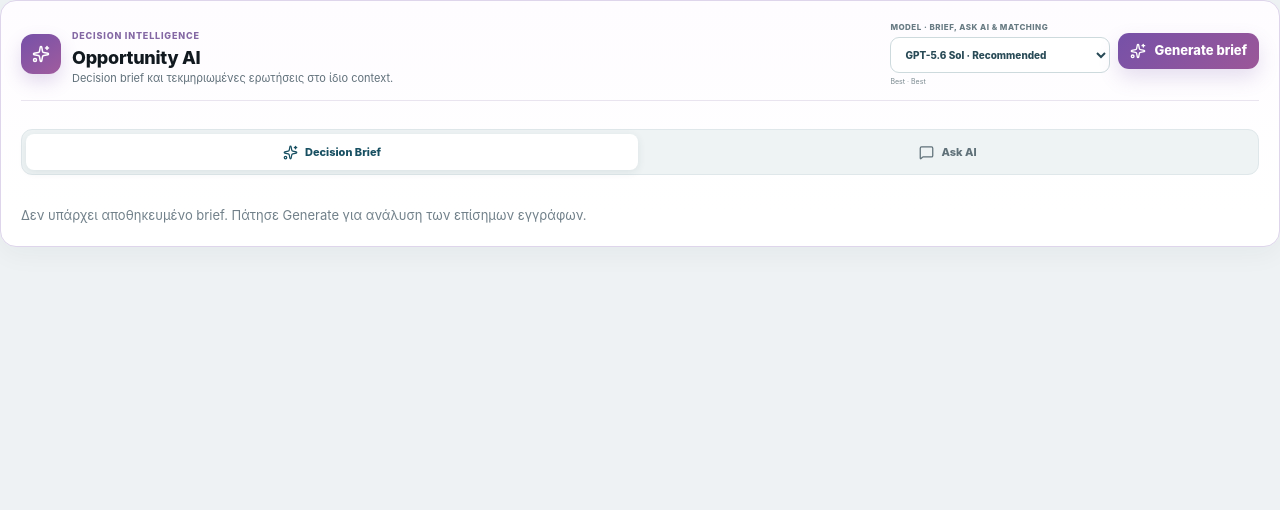
Test: Opportunity AI workspace › switches from Decision Brief to independent Ask AI
Select "GPT-4.1 mini" in the dropdown named "AI model": (1000, 55) [890,37,1110,73]
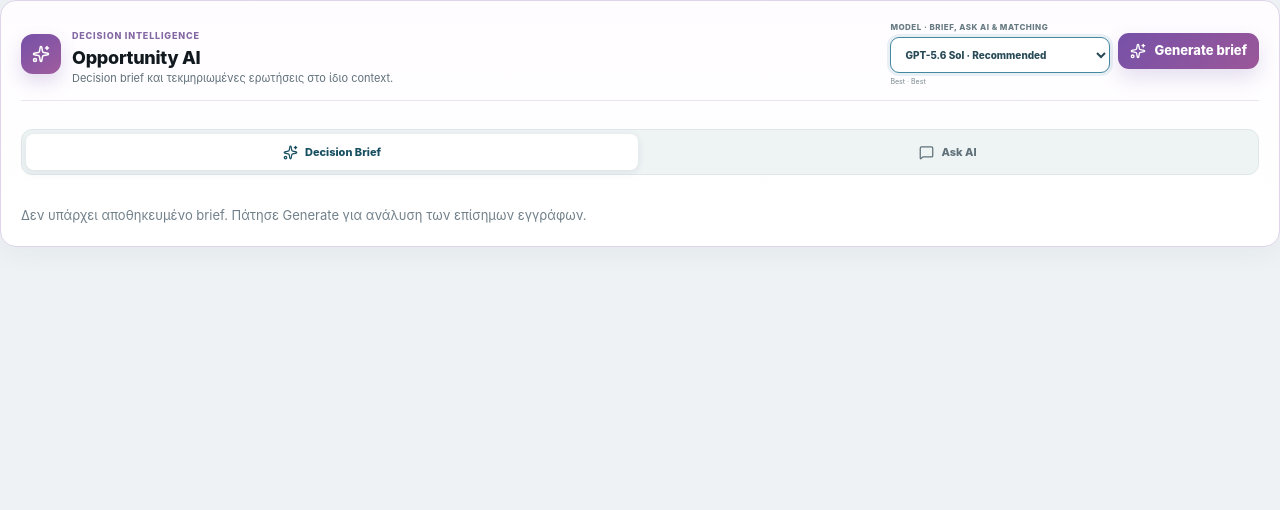
Click the tab "Ask AI": (948, 152) [642,134,1254,170]
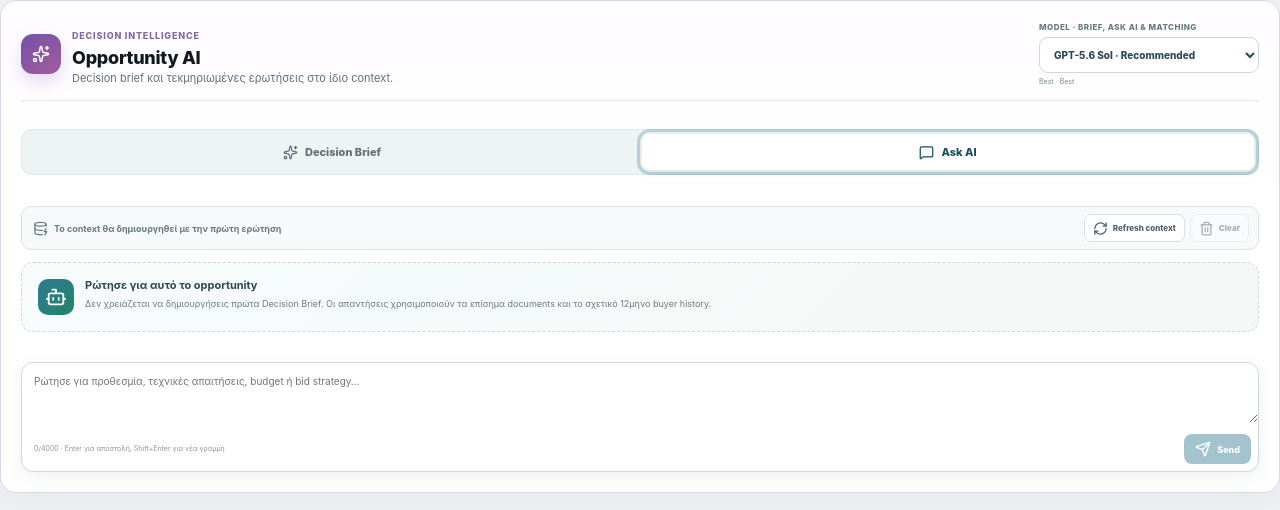
Result: the text "Δεν χρειάζεται να δημιουργήσεις πρώτα Decision Brief" is shown at [85,298,711,309]
